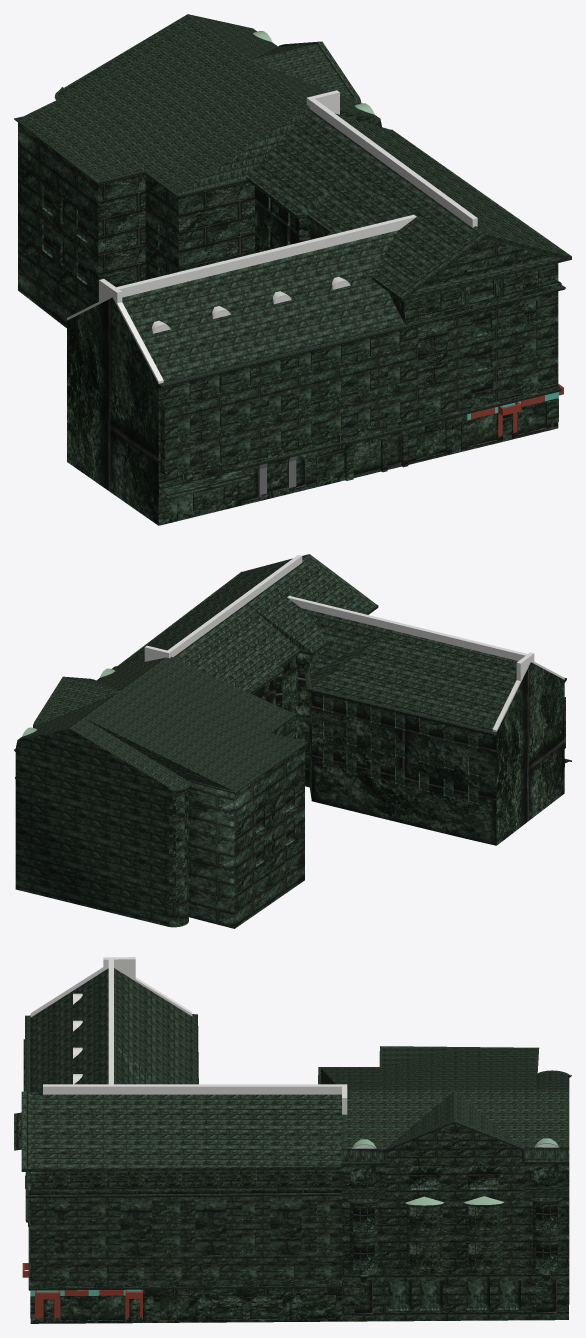
The model's file is kirkkokatu_10.fbx.
3 views of the same model, one above another, from view 1: azimuth 30°, elevation 25°; view 2: azimuth 150°, elevation 25°; view 3: azimuth 270°, elevation 25° (orthographic). The views are drawn at different scales.
Parts seen in each view (by area): view 1: Kirkkokatu_10; view 2: Kirkkokatu_10; view 3: Kirkkokatu_10.
Boxes of the visible parts, x1,y1,x2,y2 form: Kirkkokatu_10: [14, 14, 571, 525]; Kirkkokatu_10: [14, 554, 571, 928]; Kirkkokatu_10: [14, 957, 571, 1323].
Size of the model in its own units: 4049 by 2099 by 5194.
Materials: 29 (23 with a texture image).
